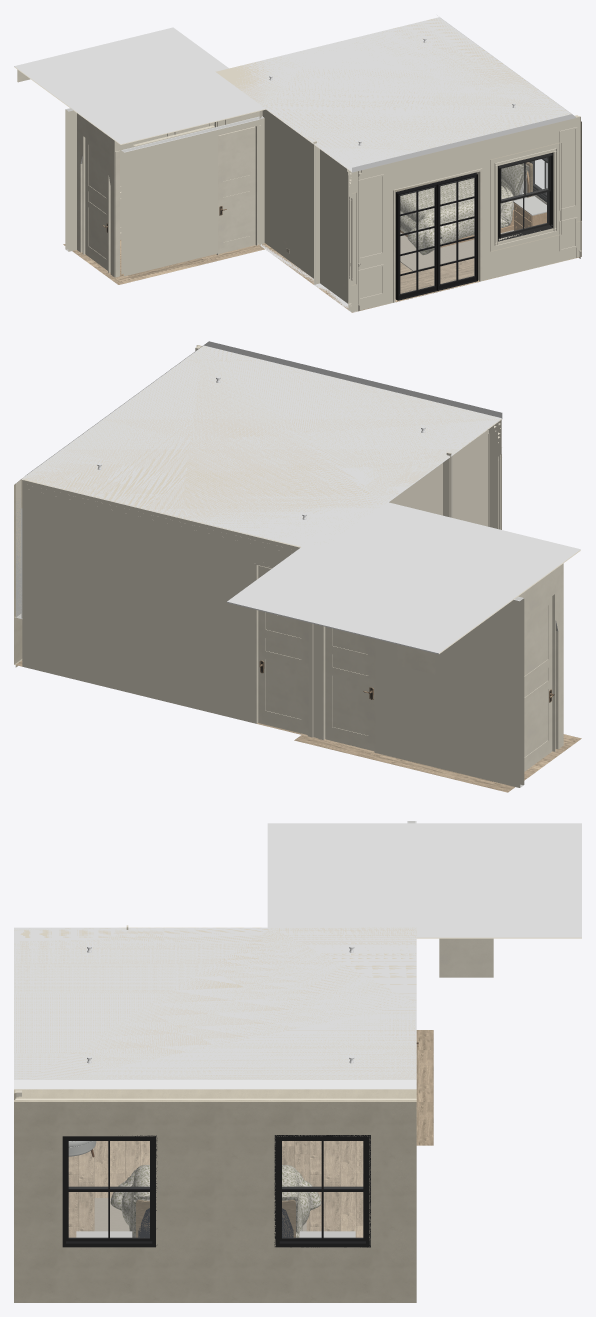
The model's file is primary-bedroom-1613920fbeb6.glb.
The picture shows the model from 3 angles, top to bottom: view 1: azimuth 30°, elevation 25°; view 2: azimuth 150°, elevation 25°; view 3: azimuth 270°, elevation 25°; orthographic projection. The views are drawn at different scales.
Visible parts, largest first — view 1: primary-bedroom-9d91b47435c6fb33, primary-bedroom-b0ade14315e4f1c3, primary-bedroom-look-9d91b47435c6fb33, primary-bedroom-look-9ecc0d558be1c706, primary-bedroom-e8793759323e04f0, primary-bedroom-fc6585fecfaf7ec3, primary-bedroom-look-18f70a4a9eda5dac, primary-bedroom-42fce09358828e49, primary-bedroom-d70d42a253f78e60, primary-bedroom-e1735639a83d20d7, primary-bedroom-c791a0f218fead78, primary-bedroom-look-6c54e09c161b5848 (+19 smaller); view 2: primary-bedroom-9d91b47435c6fb33, primary-bedroom-21ac2ed1b4475155, primary-bedroom-e8793759323e04f0, primary-bedroom-look-9d91b47435c6fb33, primary-bedroom-look-21ac2ed1b4475155, primary-bedroom-b7a870a0f6b43c8c, primary-bedroom-look-6d601da8073fdc0e, primary-bedroom-look-6c54e09c161b5848, primary-bedroom-c791a0f218fead78, primary-bedroom-look-e48b5483df8cacdb, primary-bedroom-look-2575515a05775d9e, primary-bedroom-fc6585fecfaf7ec3 (+6 smaller); view 3: primary-bedroom-9d91b47435c6fb33, primary-bedroom-adb6f49a6d2cbec3, primary-bedroom-look-9d91b47435c6fb33, primary-bedroom-e8793759323e04f0, primary-bedroom-16d9002bc6318568, primary-bedroom-91f952a1d198b4a4, primary-bedroom-2575515a05775d9e, primary-bedroom-f5a37a5545b9d676, primary-bedroom-791abe15be22adf2, primary-bedroom-look-95b94d4b81cfb474, primary-bedroom-look-2575515a05775d9e, primary-bedroom-b29583548b72a1ea (+4 smaller).
Part boxes in pixels (box(x1,y1,x2,y2)): primary-bedroom-9d91b47435c6fb33: box(234, 17, 575, 172); primary-bedroom-b0ade14315e4f1c3: box(348, 116, 580, 312); primary-bedroom-look-9d91b47435c6fb33: box(14, 27, 265, 144); primary-bedroom-look-9ecc0d558be1c706: box(121, 117, 259, 276); primary-bedroom-e8793759323e04f0: box(215, 15, 575, 171); primary-bedroom-fc6585fecfaf7ec3: box(259, 109, 319, 284); primary-bedroom-look-18f70a4a9eda5dac: box(218, 126, 255, 253); primary-bedroom-42fce09358828e49: box(438, 174, 477, 290); primary-bedroom-d70d42a253f78e60: box(398, 184, 437, 300); primary-bedroom-e1735639a83d20d7: box(498, 152, 553, 241); primary-bedroom-c791a0f218fead78: box(314, 148, 358, 312); primary-bedroom-look-6c54e09c161b5848: box(82, 135, 110, 272); primary-bedroom-9d91b47435c6fb33: box(21, 345, 502, 551); primary-bedroom-21ac2ed1b4475155: box(22, 480, 320, 739); primary-bedroom-e8793759323e04f0: box(22, 341, 502, 536); primary-bedroom-look-9d91b47435c6fb33: box(227, 502, 580, 654); primary-bedroom-look-21ac2ed1b4475155: box(320, 596, 524, 787); primary-bedroom-b7a870a0f6b43c8c: box(258, 565, 307, 734); primary-bedroom-look-6d601da8073fdc0e: box(325, 627, 374, 750); primary-bedroom-look-6c54e09c161b5848: box(524, 592, 555, 771); primary-bedroom-c791a0f218fead78: box(443, 426, 491, 526); primary-bedroom-look-e48b5483df8cacdb: box(518, 563, 563, 749); primary-bedroom-look-2575515a05775d9e: box(294, 734, 581, 792); primary-bedroom-fc6585fecfaf7ec3: box(388, 457, 449, 515); primary-bedroom-9d91b47435c6fb33: box(14, 927, 416, 1089); primary-bedroom-adb6f49a6d2cbec3: box(14, 1100, 416, 1247); primary-bedroom-look-9d91b47435c6fb33: box(267, 823, 581, 938); primary-bedroom-e8793759323e04f0: box(14, 927, 416, 1088); primary-bedroom-16d9002bc6318568: box(15, 1248, 416, 1300); primary-bedroom-91f952a1d198b4a4: box(274, 1135, 370, 1247); primary-bedroom-2575515a05775d9e: box(14, 1141, 416, 1302); primary-bedroom-f5a37a5545b9d676: box(62, 1135, 157, 1247); primary-bedroom-791abe15be22adf2: box(14, 1089, 416, 1098); primary-bedroom-look-95b94d4b81cfb474: box(439, 938, 493, 977); primary-bedroom-look-2575515a05775d9e: box(416, 1030, 433, 1145); primary-bedroom-b29583548b72a1ea: box(125, 1165, 304, 1237).
Bounding box in the file's own units: 8.2 × 3.04 × 7.21.
44 materials, 12 textured.
